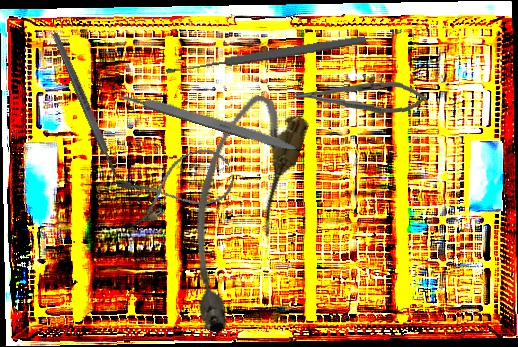Cannula: (158, 87, 314, 340), (114, 142, 239, 230)
Needle Holder: (292, 77, 427, 116)
Scalpel Handle: (117, 87, 305, 156), (50, 31, 121, 179)
Surgical Spoon: (165, 33, 367, 77)
